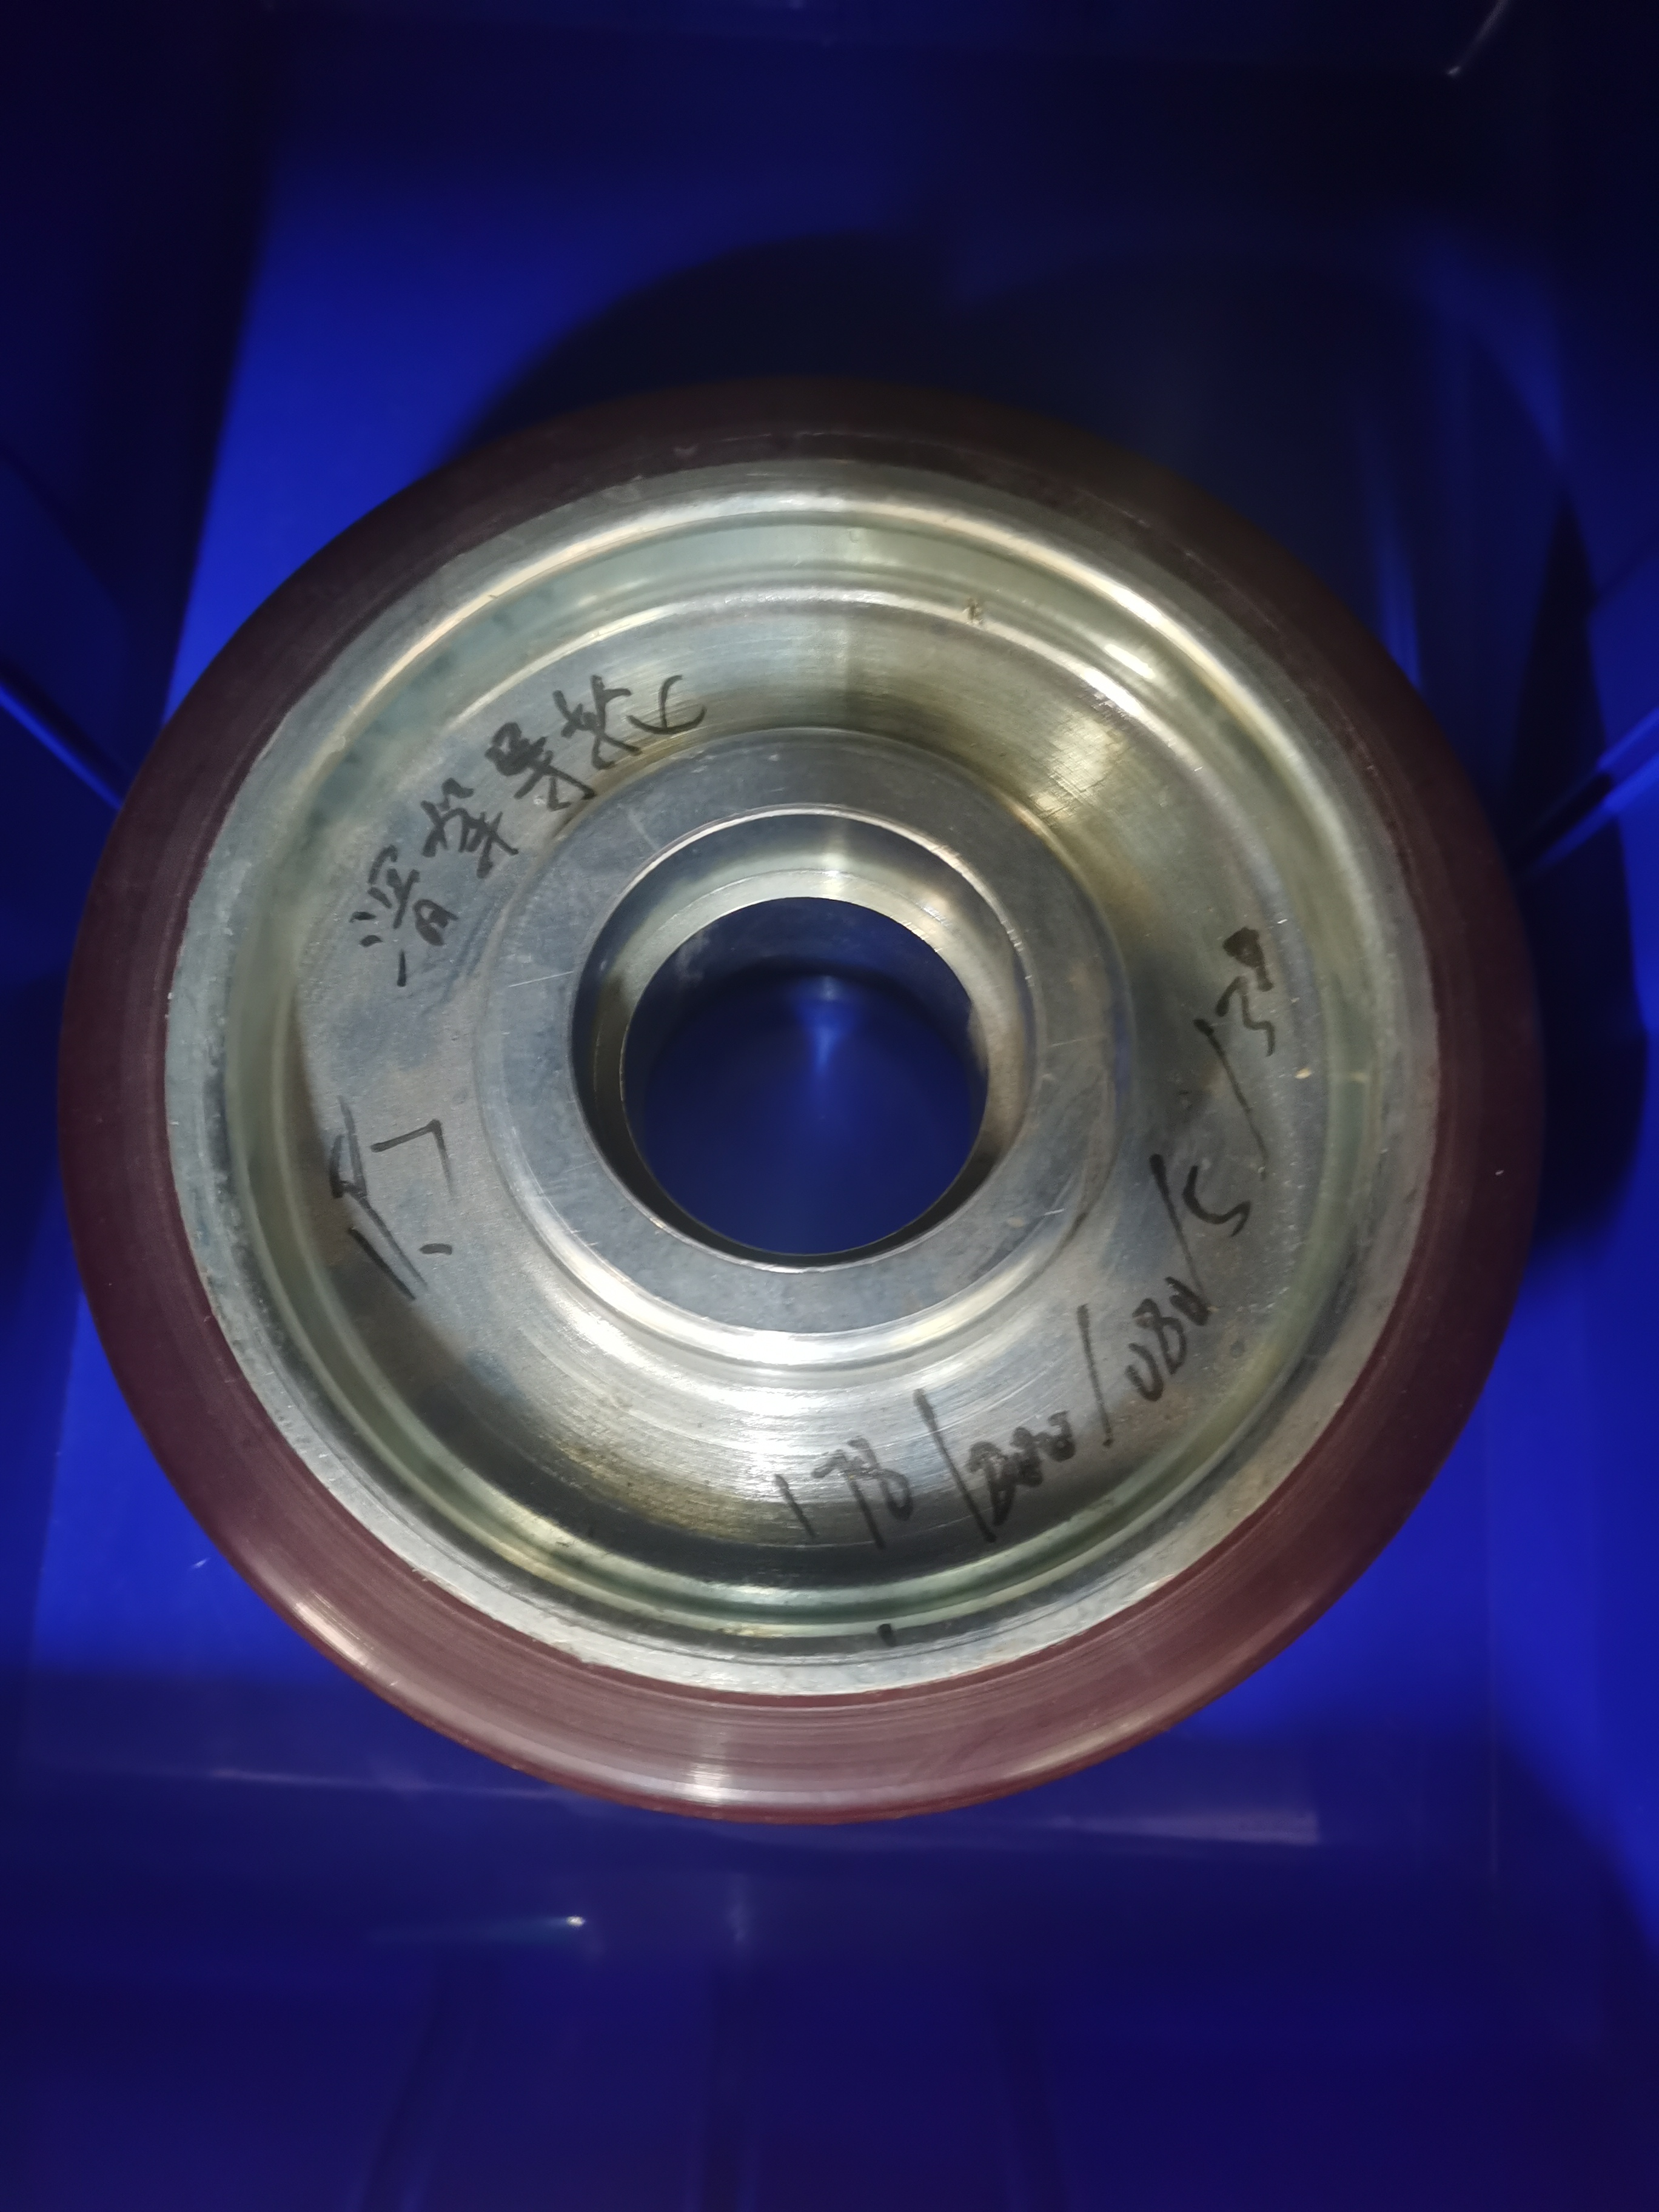good_wheel: (94, 320, 1520, 1841)
